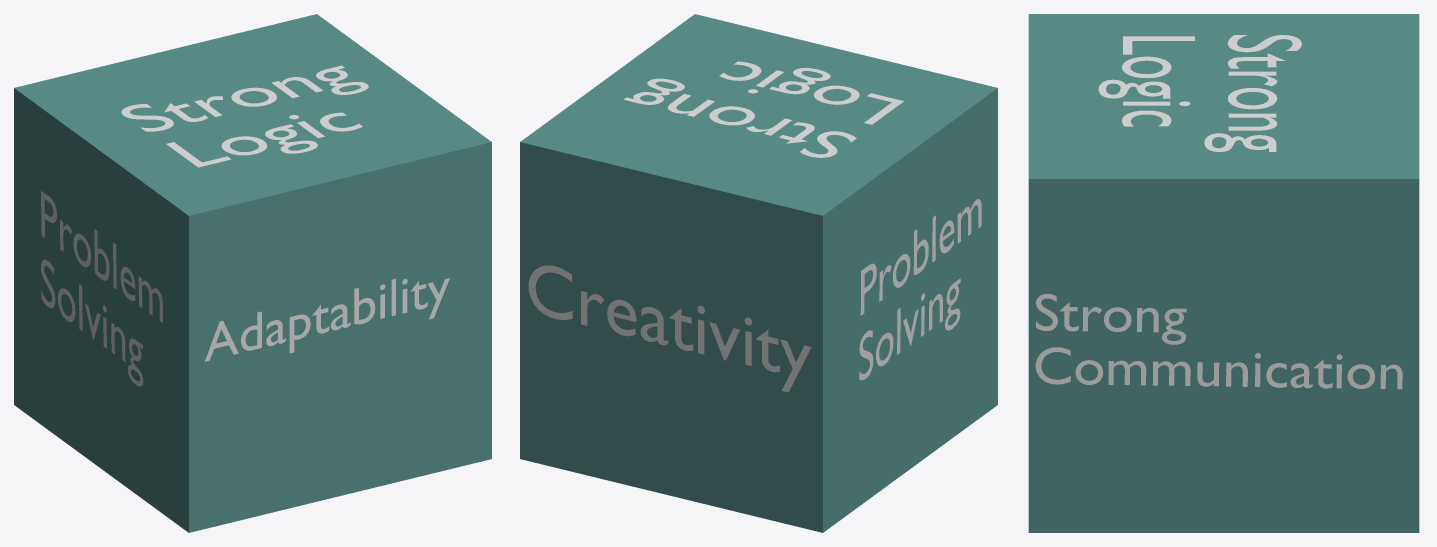
Rendered from modelf.glb.
The picture shows the model from 3 angles, left to right: view 1: azimuth 30°, elevation 25°; view 2: azimuth 150°, elevation 25°; view 3: azimuth 270°, elevation 25°; orthographic projection. The views are drawn at different scales.
Visible parts, largest first — view 1: Cube, Text.004, Text.002, Text.001; view 2: Cube, Text.003, Text.004, Text.002; view 3: Cube, Text, Text.004.
Part boxes in pixels (x1,y1,x2,y2): Cube: [14, 14, 491, 532]; Text.004: [121, 65, 368, 167]; Text.002: [41, 191, 162, 386]; Text.001: [204, 278, 449, 361]; Cube: [520, 14, 997, 532]; Text.003: [528, 265, 811, 392]; Text.004: [623, 61, 903, 157]; Text.002: [859, 199, 981, 380]; Cube: [1028, 14, 1419, 532]; Text: [1035, 294, 1402, 389]; Text.004: [1098, 35, 1301, 151].
Size of the model in its own units: 2.72 by 2.66 by 2.66.
